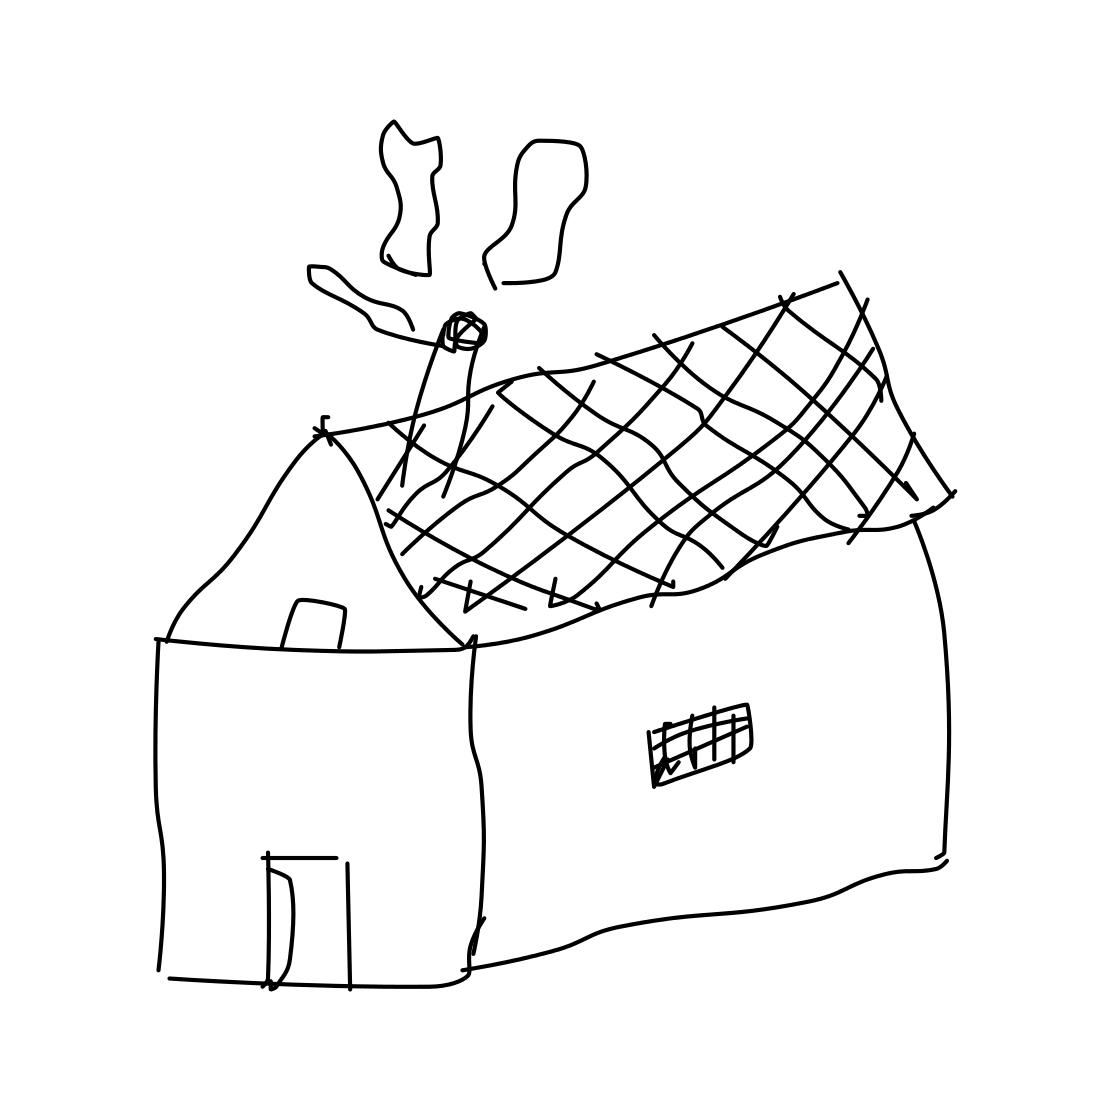House: (121, 264, 964, 1000)
